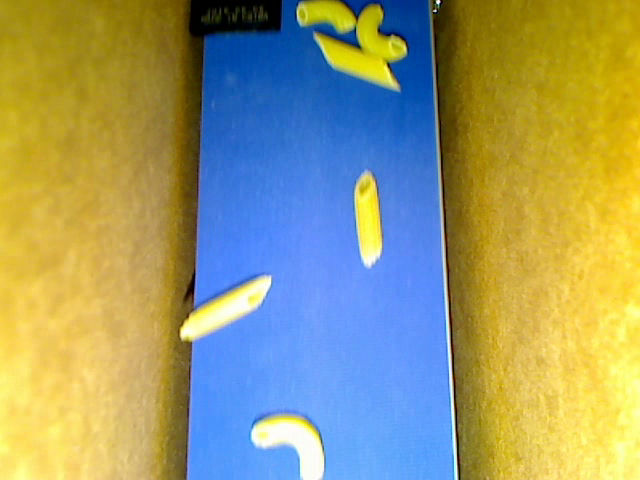elbow: (250, 412, 326, 479), (356, 4, 408, 64), (297, 1, 356, 35)
penne: (178, 273, 272, 344), (312, 32, 399, 91), (354, 168, 383, 270)
